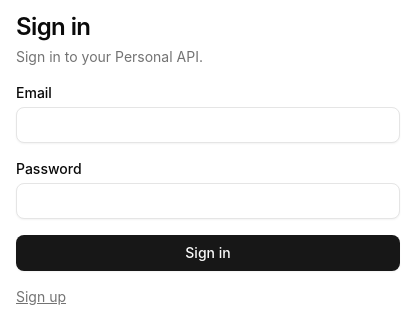
/connect-extension › sends a signed-out user to login, then back to the connect page
In the field labelled "Email": (208, 125) [16,107,400,143], type "alice@example.test"
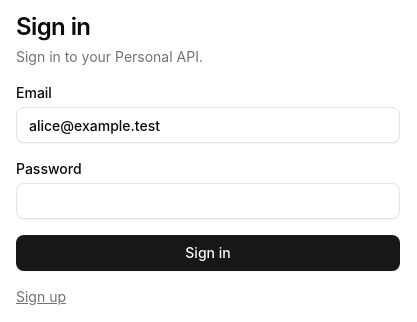
In the password field labelled "Password": (208, 201) [16,183,400,219], type "correct-horse-battery"
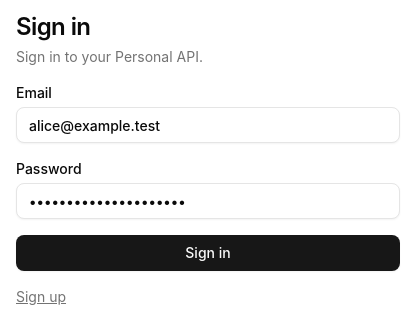
Click the button "Sign in": (208, 253) [16,235,400,271]
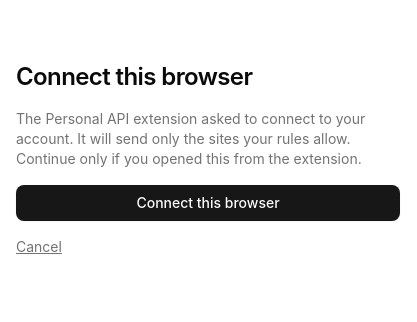
Result: the button "Connect this browser" is shown at [16,185,400,221]
